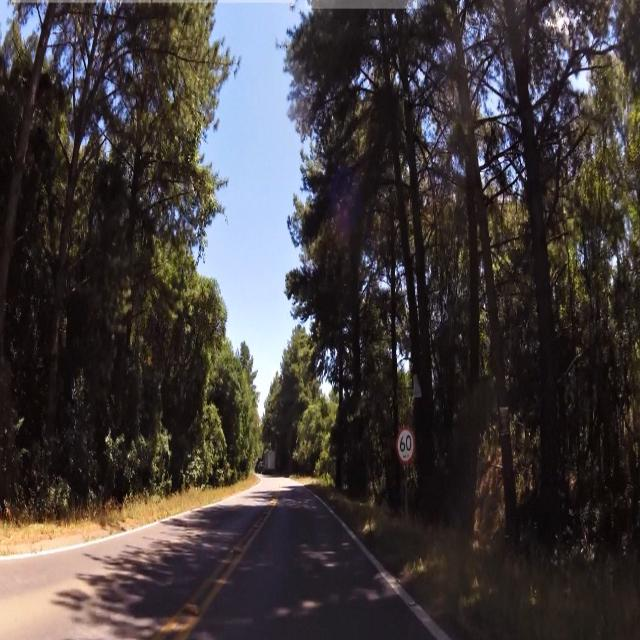R-19: (395, 427, 418, 464)
